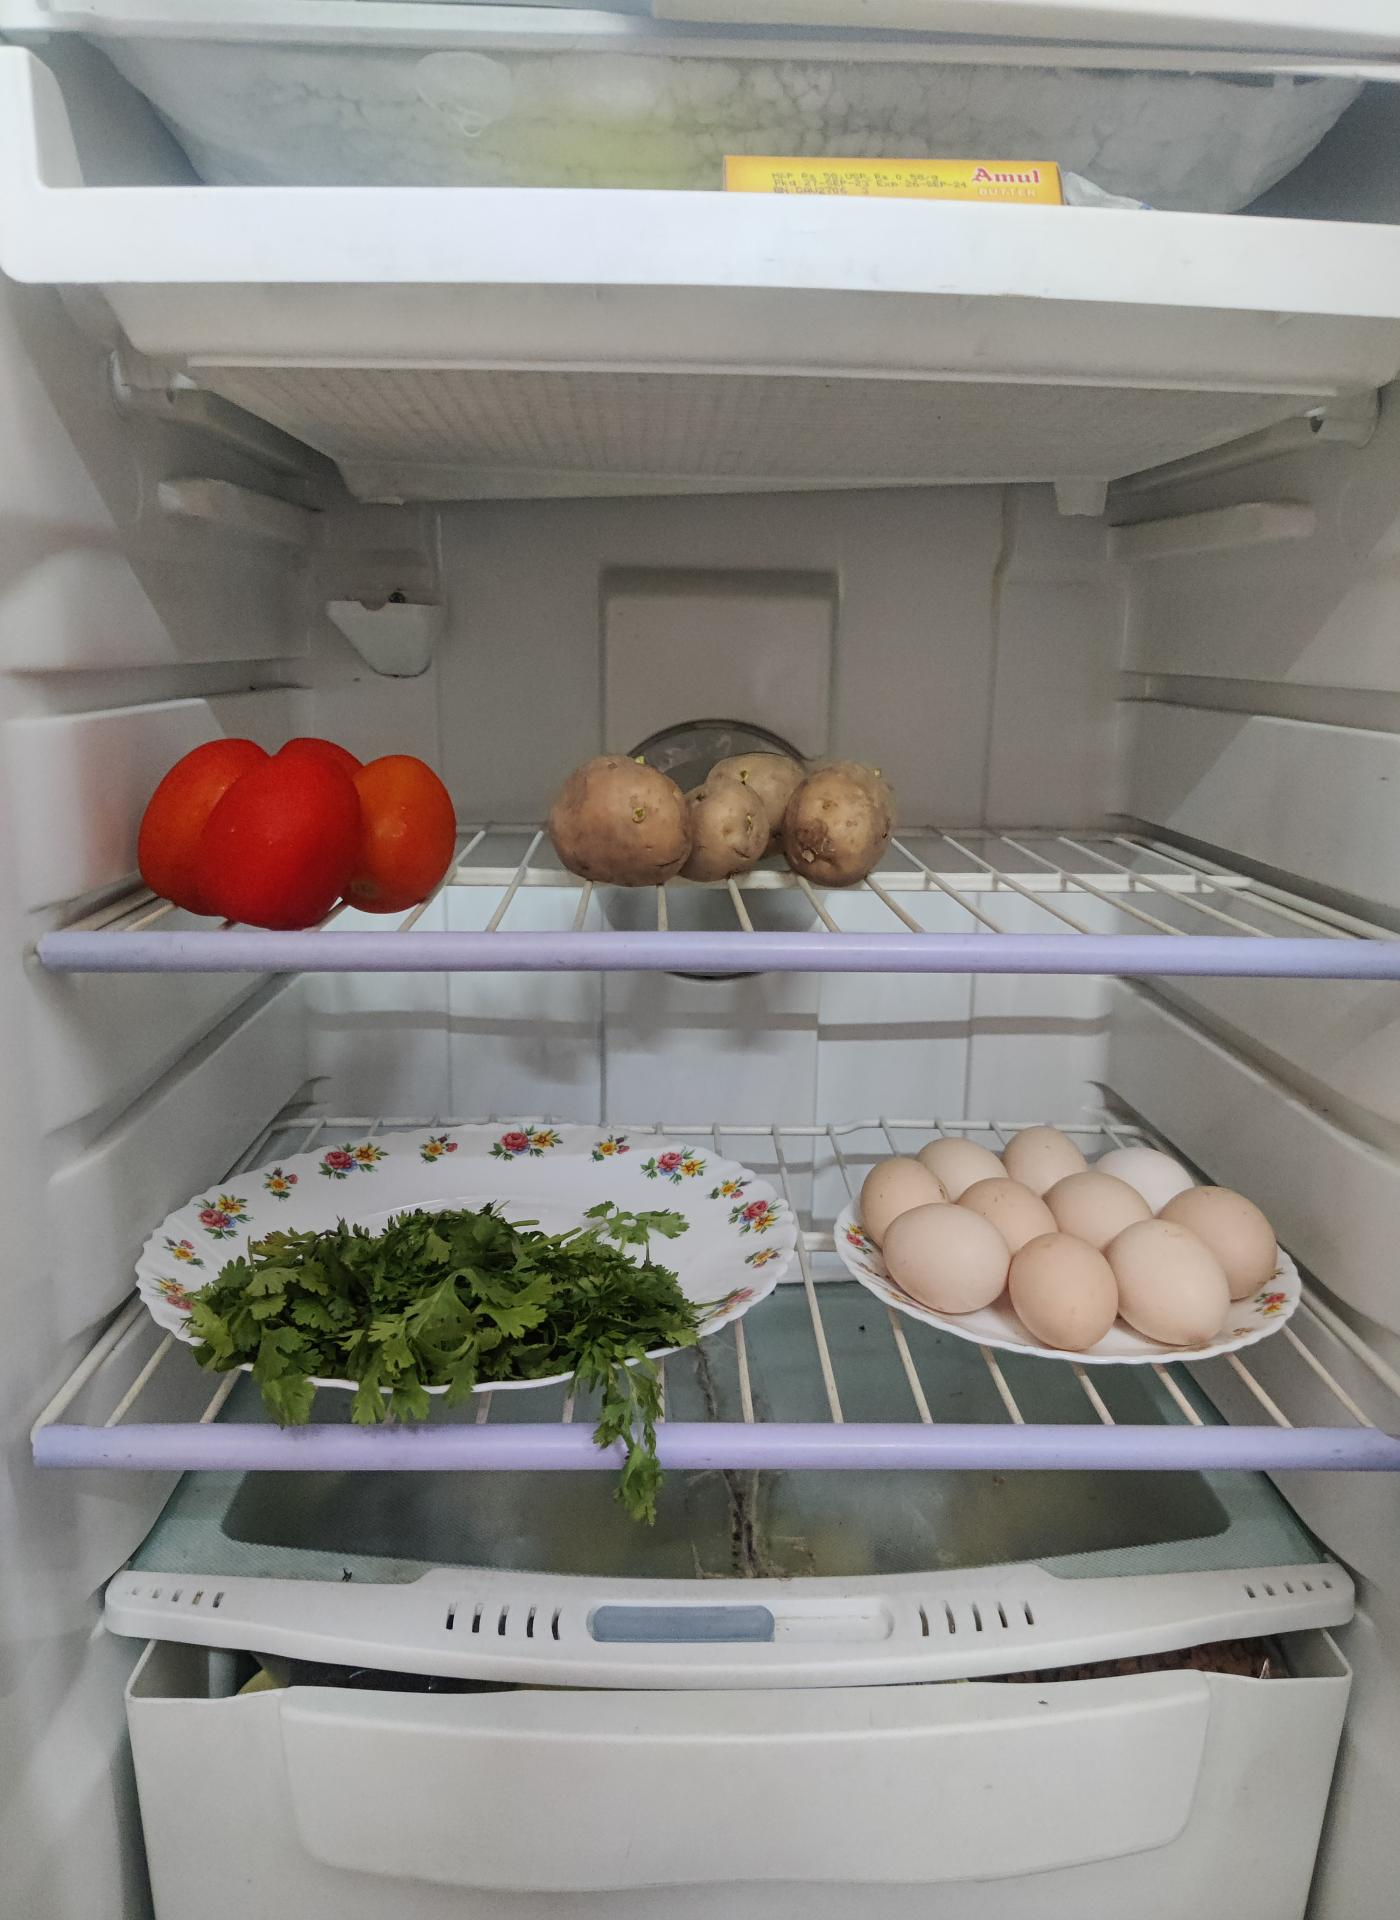coriander: (186, 1206, 692, 1410)
egg: (872, 1130, 1291, 1368)
potato: (549, 745, 899, 888)
tomato: (140, 739, 462, 933)
